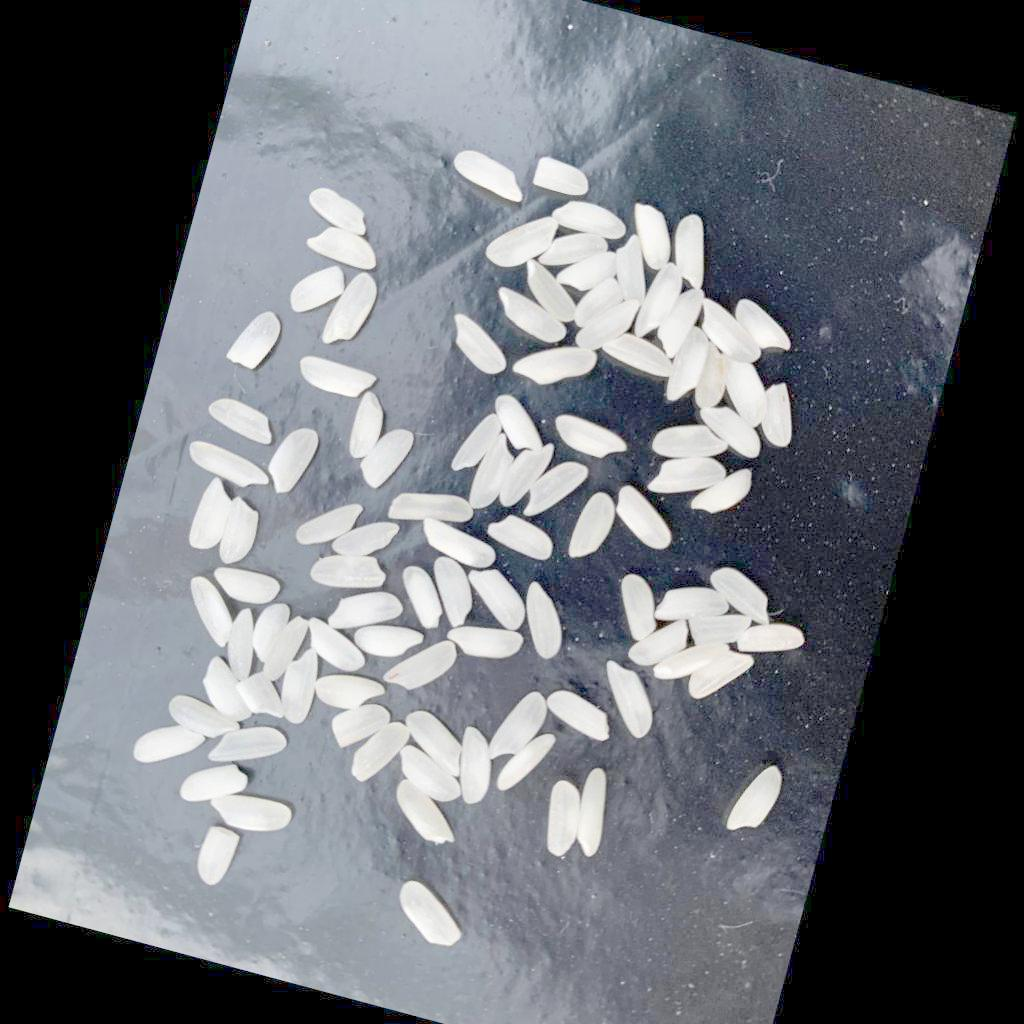rice: (391, 879, 474, 952), (592, 662, 666, 743), (485, 205, 562, 280), (389, 778, 469, 849), (488, 684, 553, 771), (384, 628, 462, 700), (512, 336, 601, 399), (396, 708, 475, 778), (691, 300, 772, 367), (707, 355, 778, 431), (208, 716, 291, 781), (648, 446, 731, 511), (320, 269, 382, 355), (458, 565, 535, 634), (389, 481, 478, 540), (523, 455, 592, 531), (653, 630, 732, 696), (328, 581, 408, 646), (609, 486, 684, 555), (207, 786, 297, 843), (513, 584, 576, 665), (184, 440, 275, 496), (575, 289, 643, 363), (177, 575, 244, 650), (349, 715, 414, 792), (490, 289, 574, 348), (444, 314, 519, 380), (727, 760, 787, 842), (197, 655, 266, 726), (391, 746, 470, 808), (703, 567, 782, 629), (686, 644, 756, 713), (421, 556, 484, 632), (634, 258, 689, 345), (496, 725, 558, 802), (651, 416, 733, 474), (515, 261, 587, 327), (569, 768, 620, 861), (450, 148, 533, 205), (264, 423, 323, 503), (498, 436, 556, 517), (295, 493, 366, 559), (310, 544, 392, 601), (132, 717, 208, 778), (417, 519, 501, 574), (654, 578, 732, 637), (692, 403, 770, 462), (179, 754, 252, 817), (357, 423, 418, 498), (627, 610, 694, 678), (449, 727, 504, 809), (469, 431, 521, 517), (621, 203, 683, 274), (609, 574, 669, 647), (541, 688, 619, 744), (691, 459, 757, 525), (164, 692, 246, 745), (551, 414, 633, 467), (655, 283, 708, 365), (665, 213, 720, 292), (301, 618, 375, 676), (487, 395, 555, 458), (187, 476, 239, 558), (275, 646, 326, 729), (451, 408, 508, 482), (538, 225, 612, 282), (392, 565, 454, 633), (445, 617, 526, 669), (226, 306, 286, 376), (729, 299, 800, 358), (568, 489, 621, 568), (605, 233, 660, 309), (537, 781, 589, 861), (288, 258, 351, 324), (332, 512, 403, 570), (600, 331, 679, 383), (329, 696, 394, 759), (312, 668, 389, 721), (297, 356, 380, 405), (305, 223, 384, 274), (204, 395, 280, 447), (666, 325, 713, 409), (736, 616, 809, 670), (550, 198, 633, 245), (485, 512, 560, 564), (684, 604, 753, 659), (557, 241, 622, 299), (305, 187, 376, 239), (217, 496, 266, 571), (753, 381, 805, 451), (263, 614, 312, 688), (352, 619, 426, 668), (221, 607, 267, 685), (211, 564, 285, 612), (232, 666, 295, 722), (575, 273, 629, 338), (193, 824, 243, 892), (347, 390, 391, 465), (693, 341, 737, 414), (248, 600, 293, 667), (533, 156, 595, 202)
